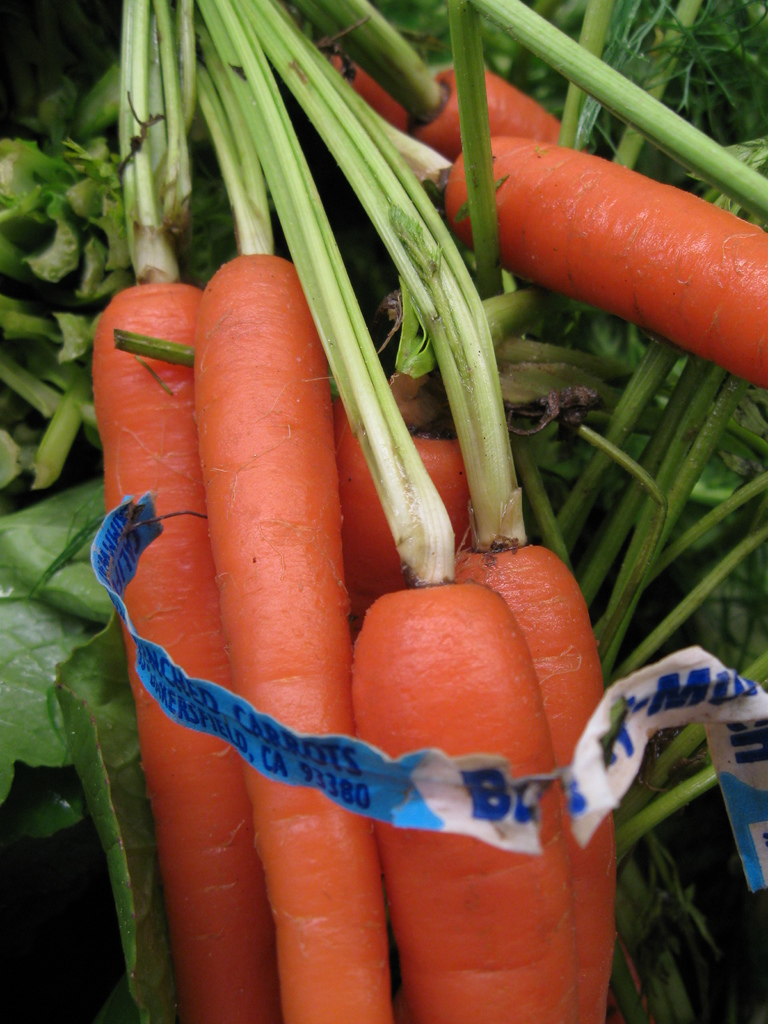Carrot: (90, 0, 768, 1024)
